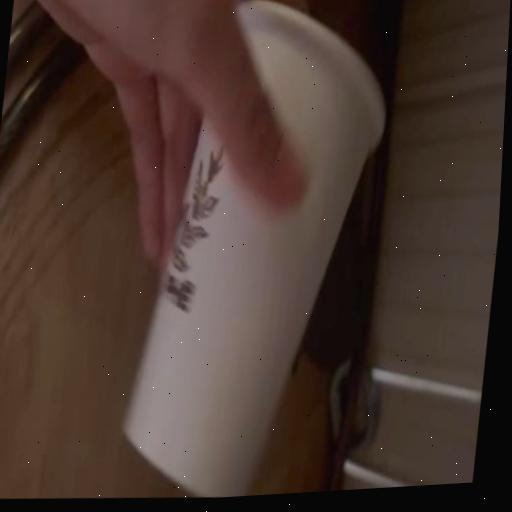ly_giay: (124, 1, 384, 497)
